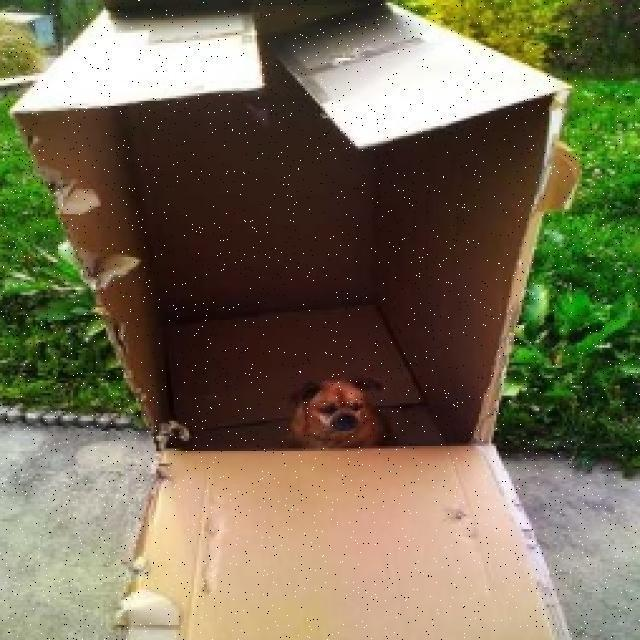box: (8, 0, 600, 640)
